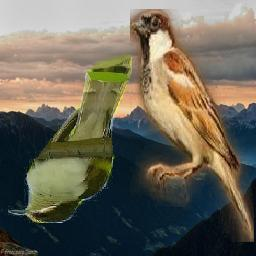Cuckoo: (8, 55, 132, 224)
Sparrow: (130, 10, 254, 243)
